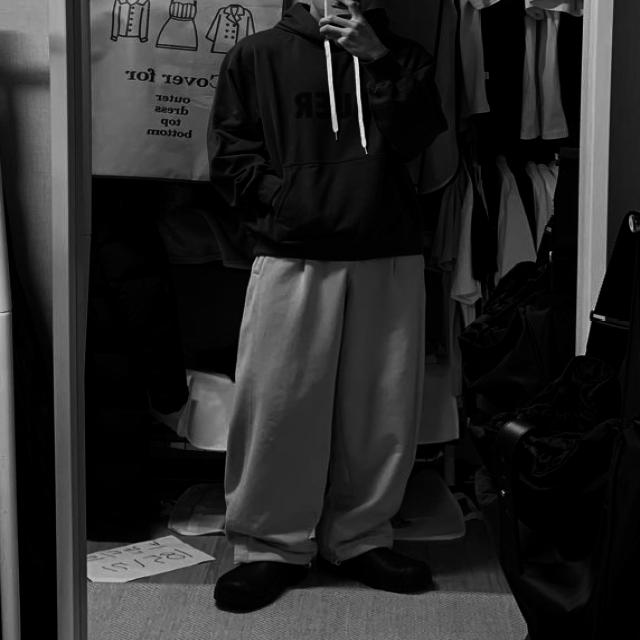hoodies: (209, 1, 448, 261)
trainingpants: (224, 252, 430, 568)
